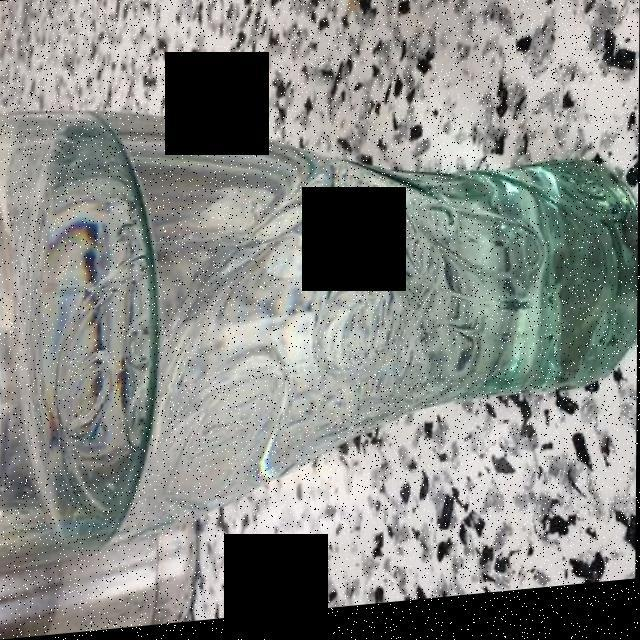water: (21, 123, 625, 538)
